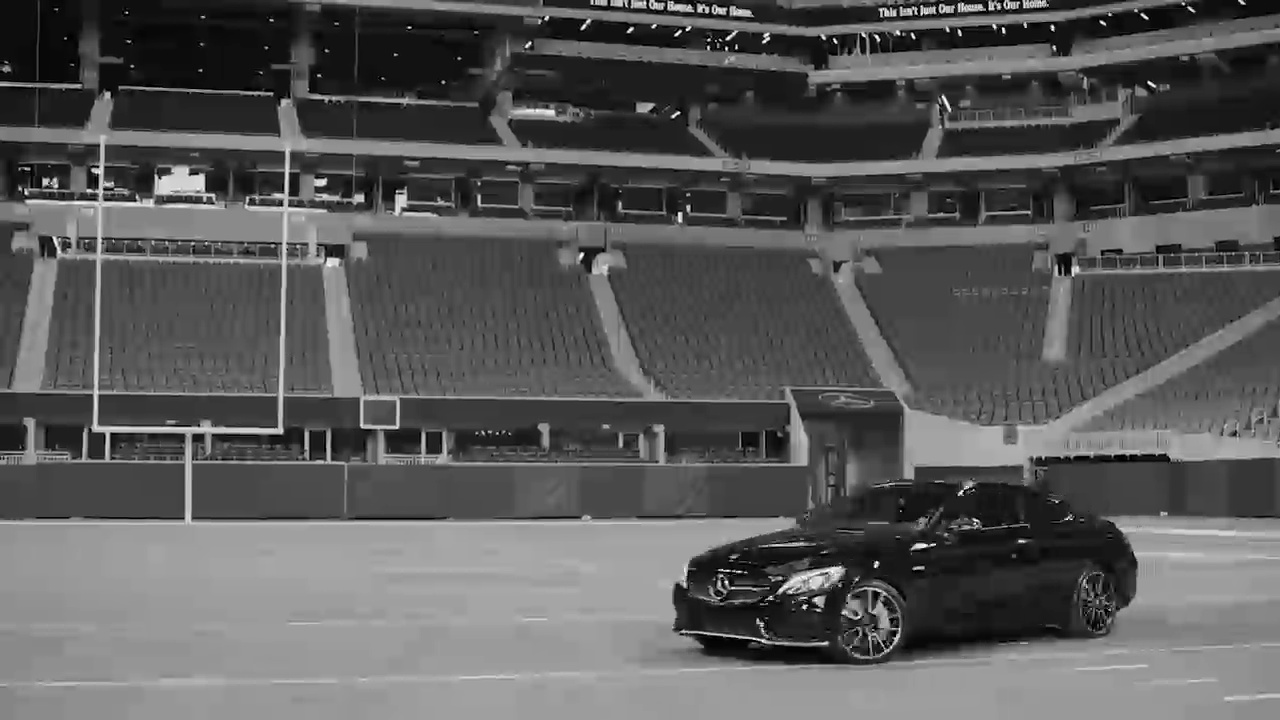car: (670, 474, 1141, 660)
